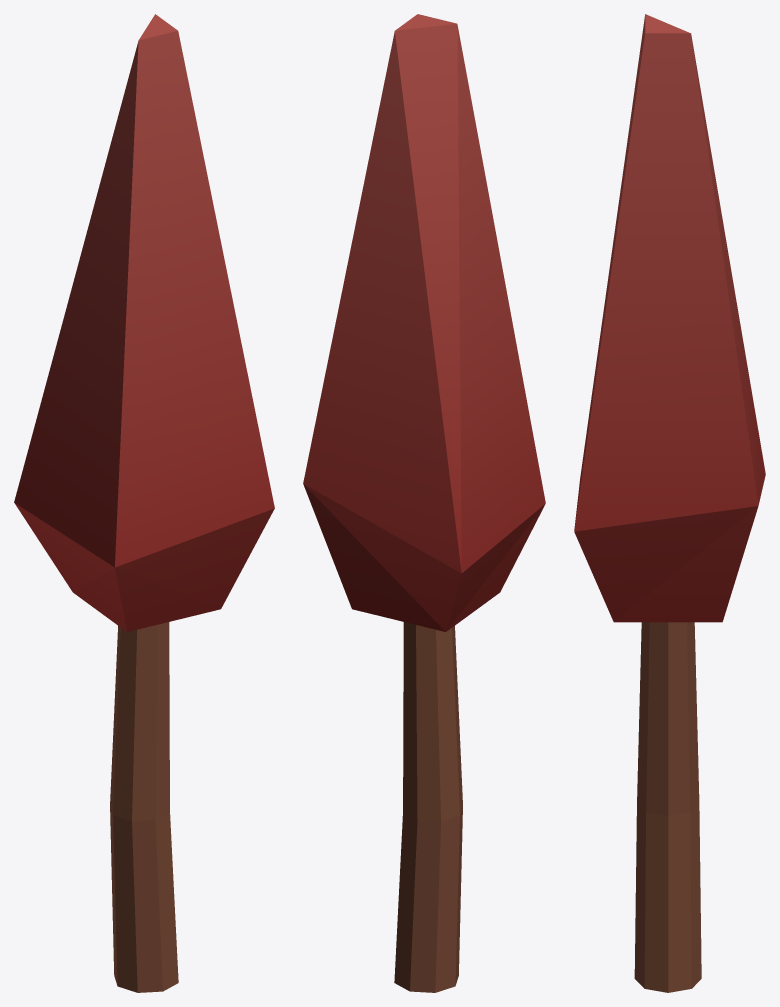
Rendered from Tree_49_gradient_red_vc.fbx.
3 views of the same model, side by side, from view 1: azimuth 30°, elevation 25°; view 2: azimuth 150°, elevation 25°; view 3: azimuth 270°, elevation 25° (orthographic).
Visible parts, largest first — view 1: Tree_49_gradient_red_vc; view 2: Tree_49_gradient_red_vc; view 3: Tree_49_gradient_red_vc.
Boxes of the visible parts, x1,y1,x2,y2 form: Tree_49_gradient_red_vc: [14, 14, 274, 992]; Tree_49_gradient_red_vc: [303, 14, 545, 992]; Tree_49_gradient_red_vc: [574, 14, 765, 992].
Bounding box in the file's own units: 47.16 × 259 × 47.16.
